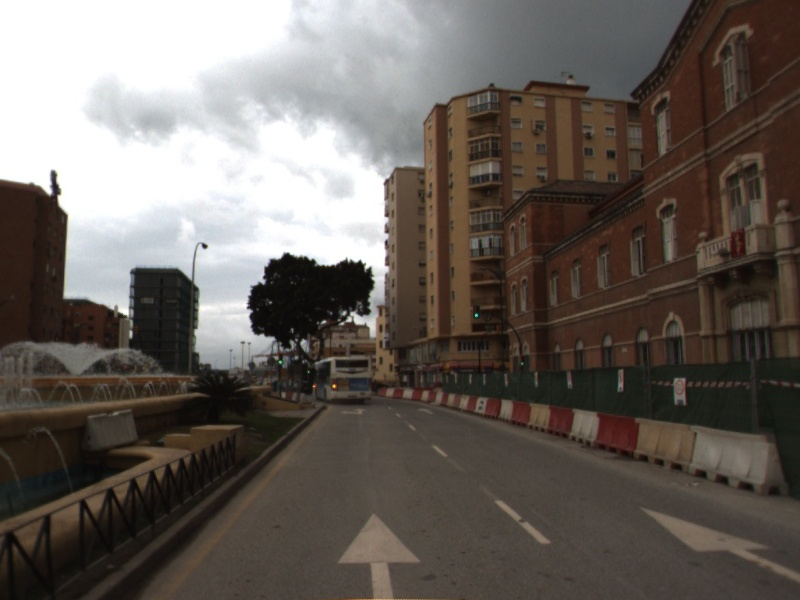STRAIGHT: (635, 502, 800, 582), (333, 509, 425, 600), (416, 406, 436, 416)
STRAIGHT_LEFT: (339, 406, 368, 416)
